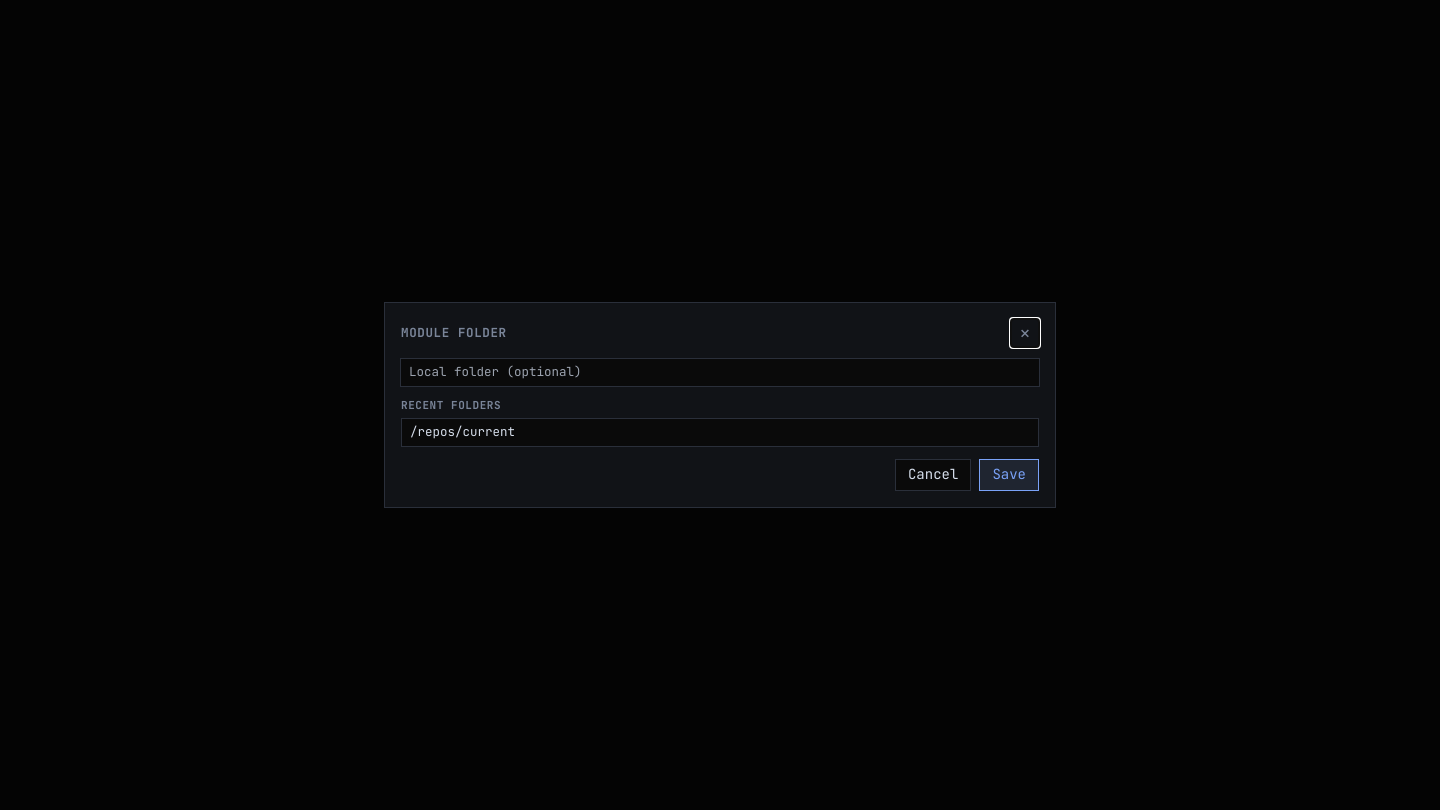
Test case: module-folder selection acceptance › preserves the current module when the folder link cannot be saved
The image size is (1440, 810).
Type "/repos/new" into the field at (720,373), box top-left (401, 359), bottom-right (1039, 386)
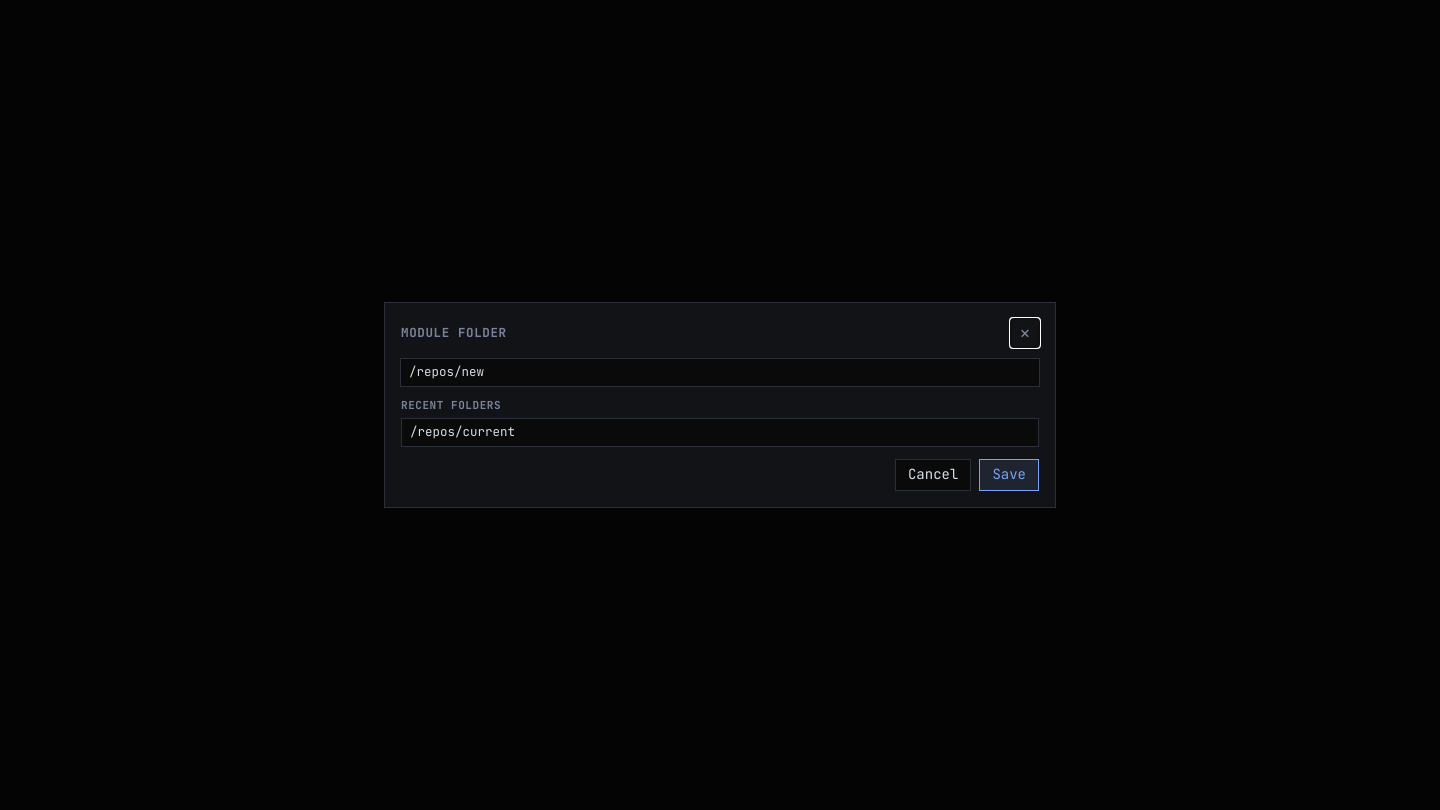
Click the button "Save" at (1009,475), box top-left (979, 459), bottom-right (1039, 491)
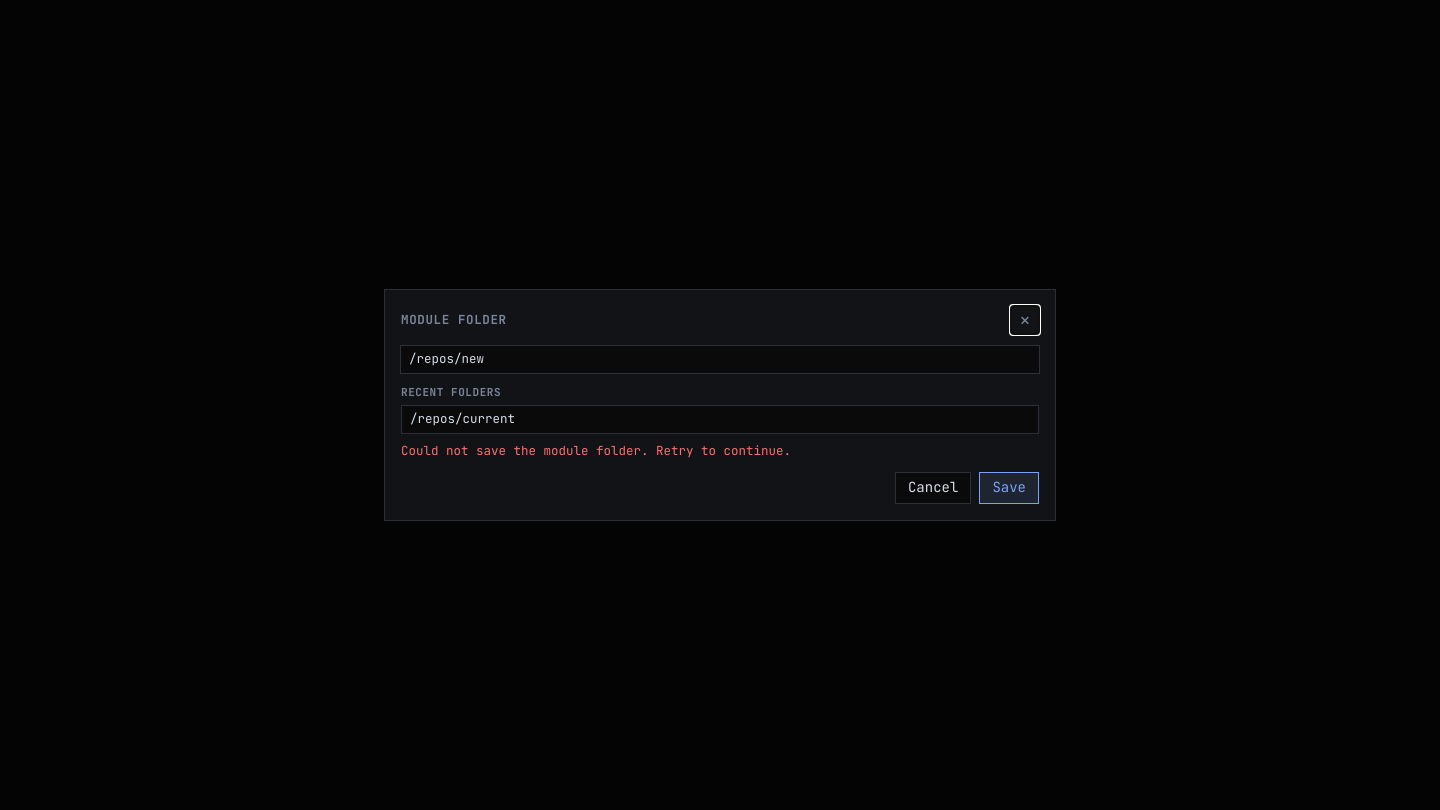
Expected: the message shows "Could not save the module folder", top-left (401, 442), bottom-right (791, 458)
